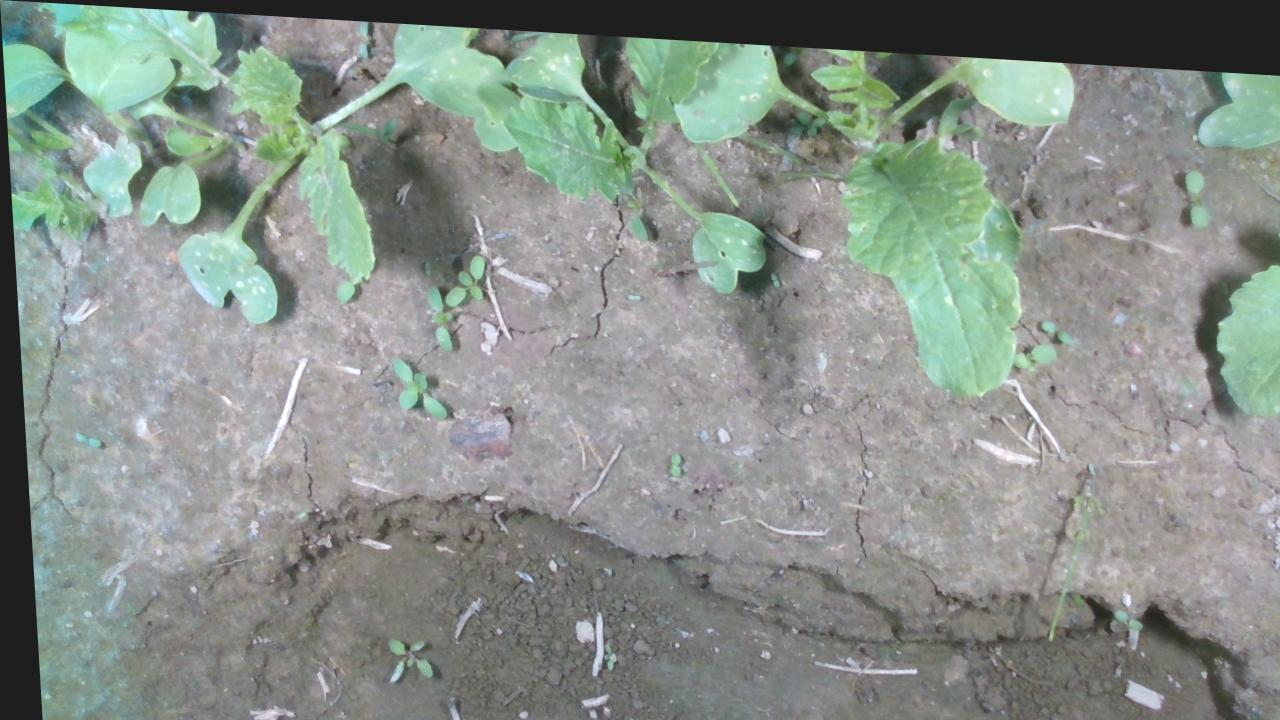weed: (385, 351, 441, 416), (377, 631, 426, 684), (1180, 153, 1209, 215), (1034, 305, 1071, 333), (1105, 593, 1136, 617), (67, 429, 97, 448), (662, 443, 676, 470), (765, 262, 777, 279)
